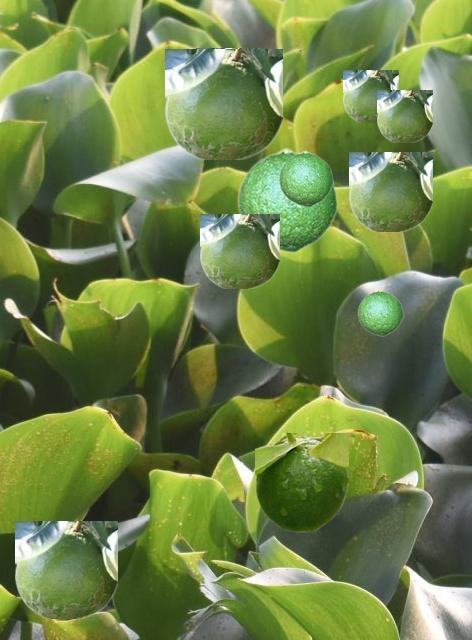dalandan: (165, 49, 281, 158), (236, 147, 337, 252), (15, 521, 116, 617), (255, 433, 347, 531), (349, 152, 431, 230), (200, 214, 278, 287), (278, 150, 332, 206), (343, 70, 397, 121), (377, 90, 431, 141), (357, 289, 402, 335)
